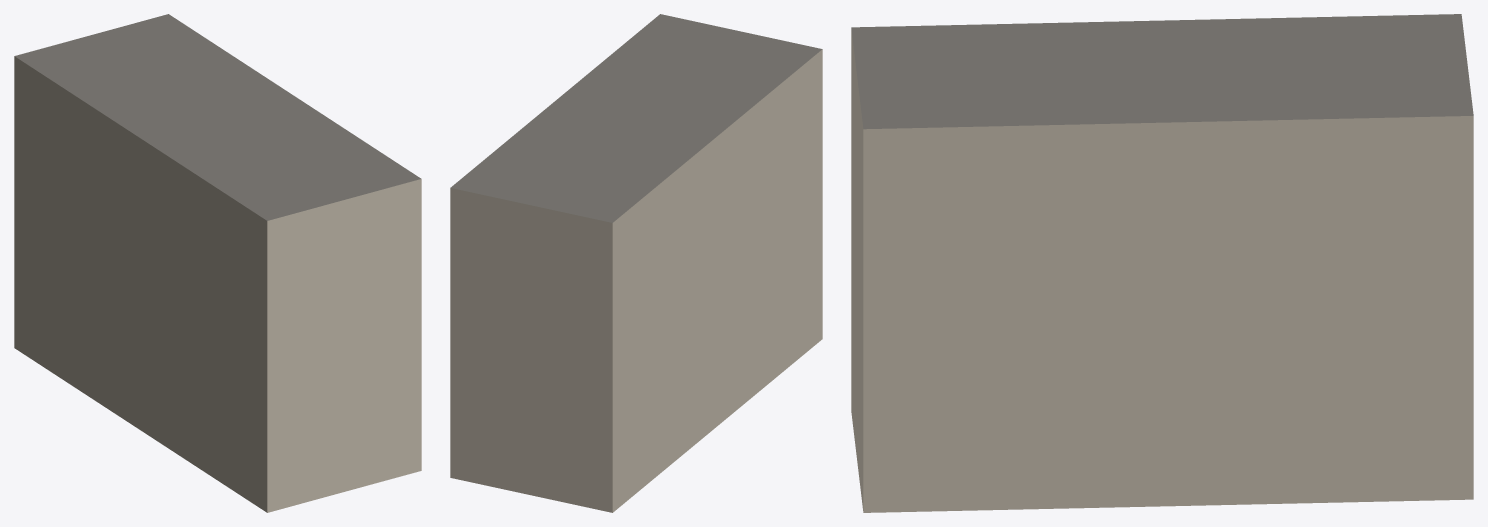
The picture shows the model from 3 angles, left to right: view 1: azimuth 30°, elevation 25°; view 2: azimuth 150°, elevation 25°; view 3: azimuth 270°, elevation 25°; orthographic projection. The views are drawn at different scales.
Parts seen in each view (by area): view 1: HP-w1424106429; view 2: HP-w1424106429; view 3: HP-w1424106429.
Part boxes in pixels (left/top/right/bottom): HP-w1424106429: left=14, top=14, right=421, bottom=512; HP-w1424106429: left=450, top=14, right=822, bottom=512; HP-w1424106429: left=851, top=14, right=1473, bottom=512.
Size of the model in its own units: 7.73 by 12 by 17.64.
